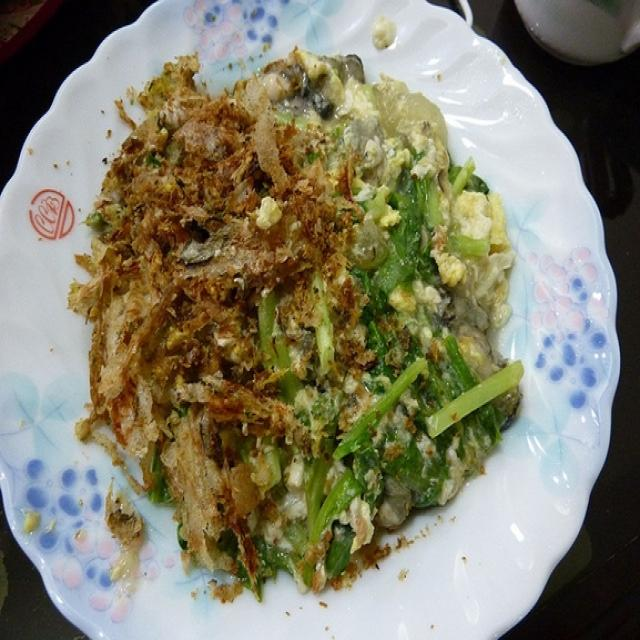熟制海鲜: (33, 27, 579, 591)
